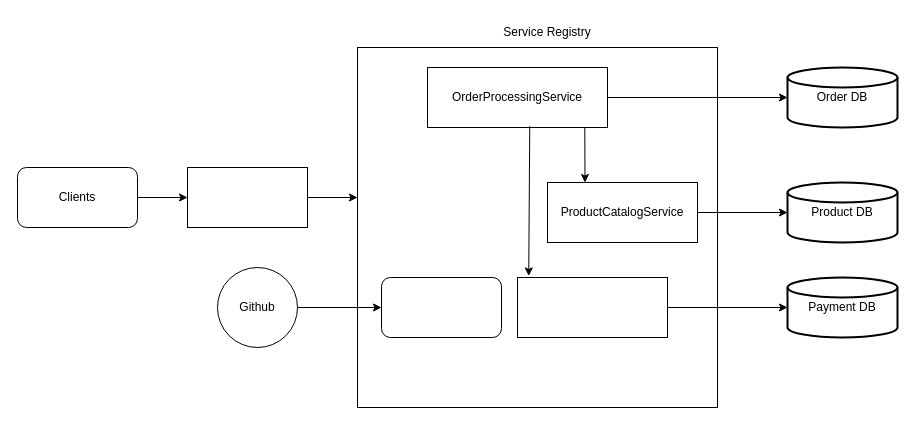
The diagram is 916 pixels wide and 425 high, and some of its shapes have lost their labels. The box of each missing label's shape, as (x1, y1, x2, y2) in pixels:
API Gateway: (186, 166, 308, 228)
ConfigServer: (380, 276, 502, 338)
PaymentService: (516, 276, 668, 338)
